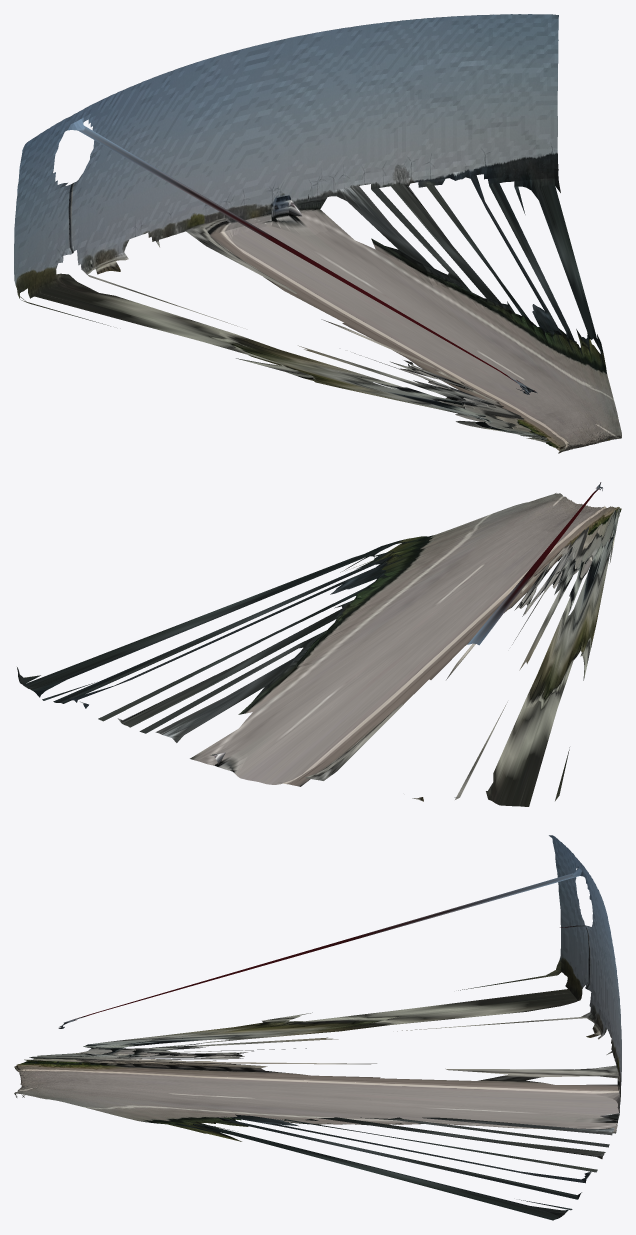
The picture shows the model from 3 angles, top to bottom: view 1: azimuth 30°, elevation 25°; view 2: azimuth 150°, elevation 25°; view 3: azimuth 270°, elevation 25°; orthographic projection. The views are drawn at different scales.
Parts seen in each view (by area): view 1: defaultobject; view 2: defaultobject; view 3: defaultobject.
Part boxes in pixels (x1=…): defaultobject: x1=14, y1=14, x2=621, y2=453; defaultobject: x1=17, y1=482, x2=621, y2=806; defaultobject: x1=14, y1=835, x2=621, y2=1220.
Bounding box in the file's own units: 41.16 × 13.61 × 44.49.
Materials: 1 (1 with a texture image).
